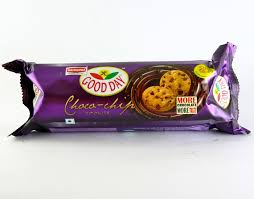gooday-small-choco: (6, 57, 248, 129)
